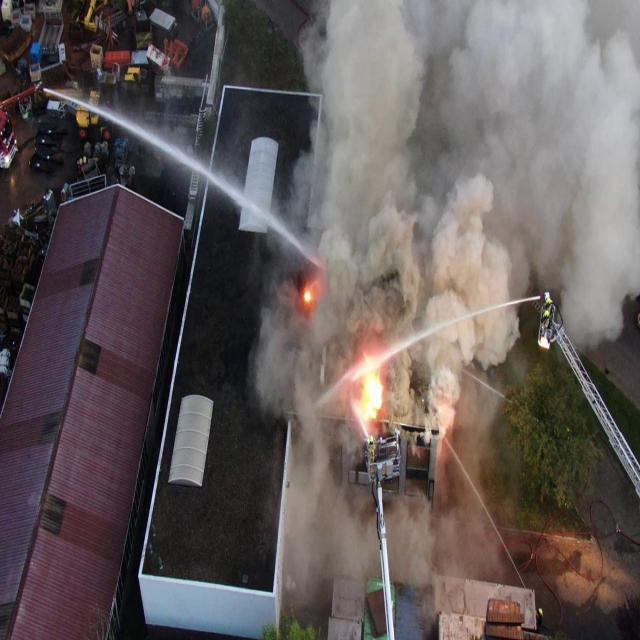Fire: (362, 354, 382, 420), (304, 291, 311, 302)
Smoke: (253, 0, 640, 597)
